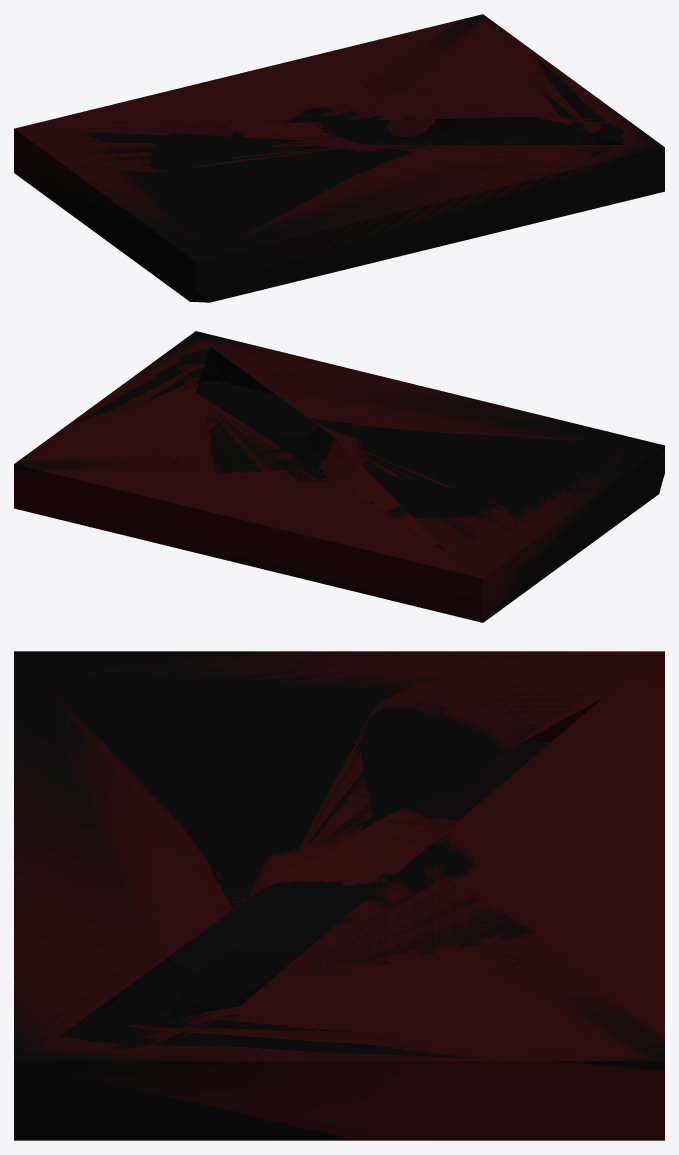
File: Floor.fbx
The picture shows the model from 3 angles, top to bottom: view 1: azimuth 30°, elevation 25°; view 2: azimuth 150°, elevation 25°; view 3: azimuth 270°, elevation 25°; orthographic projection. The views are drawn at different scales.
Parts seen in each view (by area): view 1: Floor; view 2: Floor; view 3: Floor.
Boxes of the visible parts, box(x1,y1,x2,y2) form: Floor: box(14, 14, 664, 302); Floor: box(14, 331, 664, 622); Floor: box(14, 651, 664, 1140).
Size of the model in its own units: 49.19 by 4.44 by 33.03.
1 material, 1 textured.
